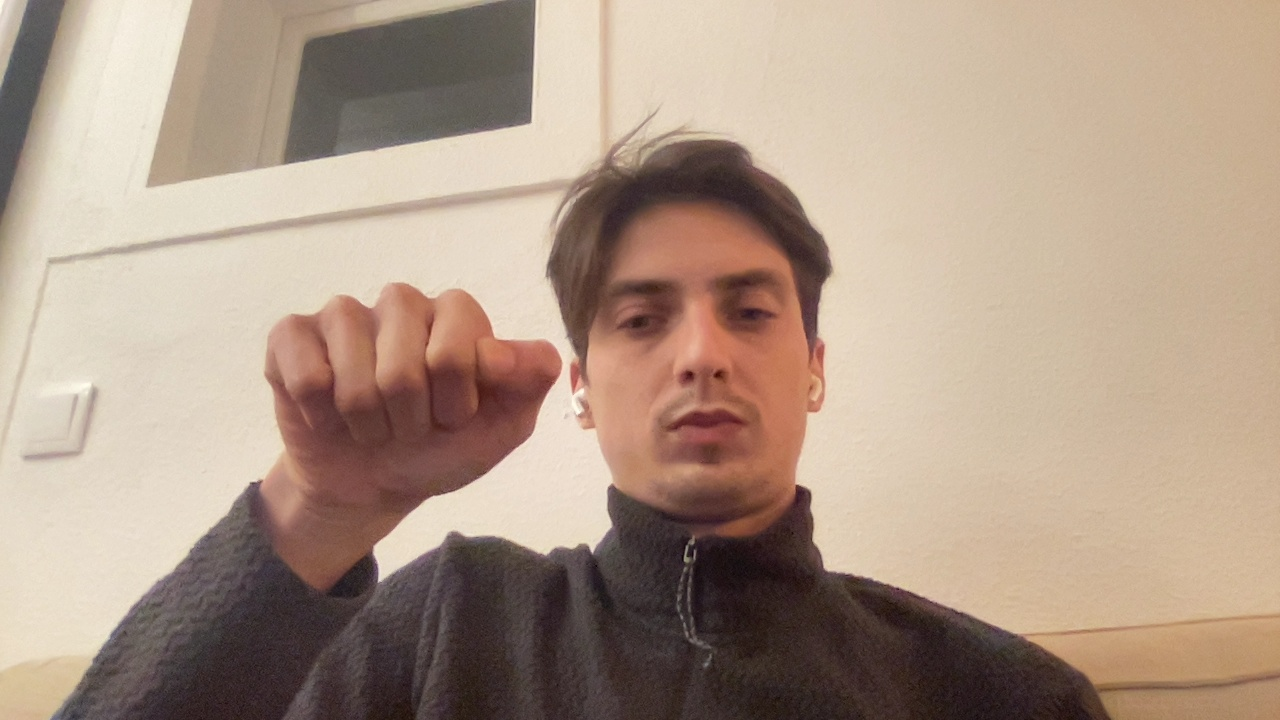Yes: (216, 251, 583, 557)
